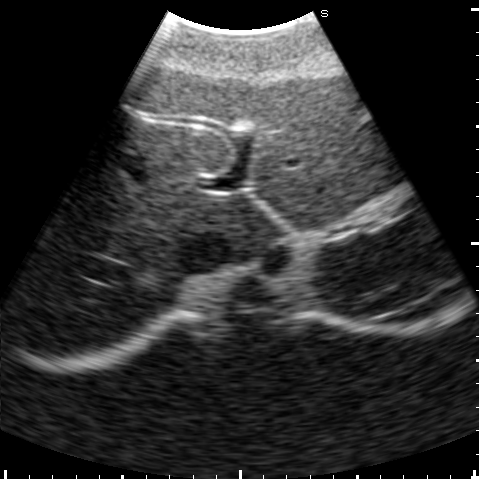IVC: (175, 232, 235, 275)
S1: (220, 194, 284, 256)
S2: (252, 161, 405, 229)
S3: (234, 71, 393, 198)
Tumor: (355, 108, 369, 124)
